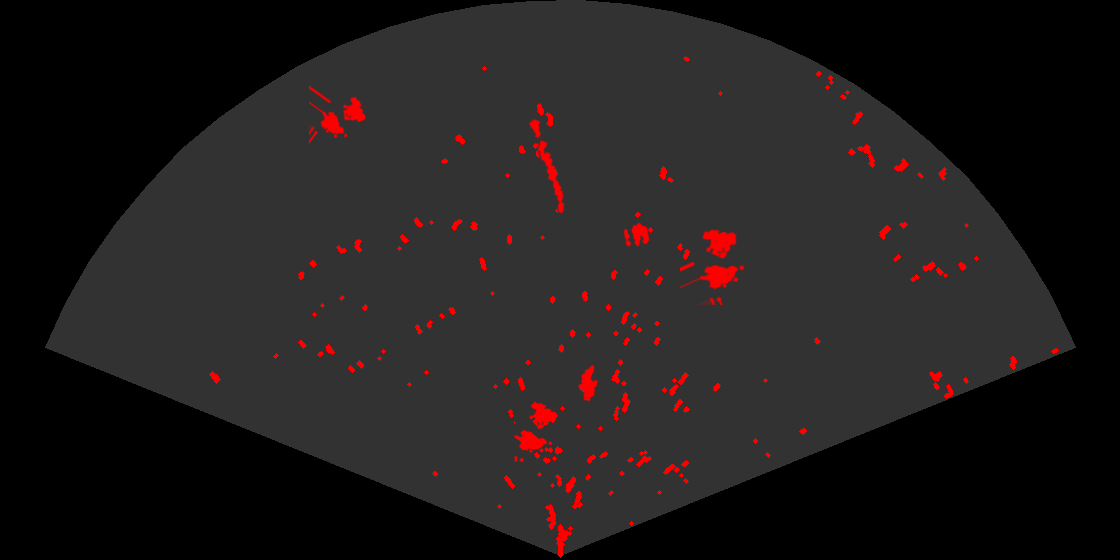AUV: (576, 363, 599, 403)
ball: (622, 221, 651, 248)
cage: (680, 228, 746, 305), (309, 83, 368, 146), (514, 400, 560, 462)
chain: (527, 111, 566, 216)
